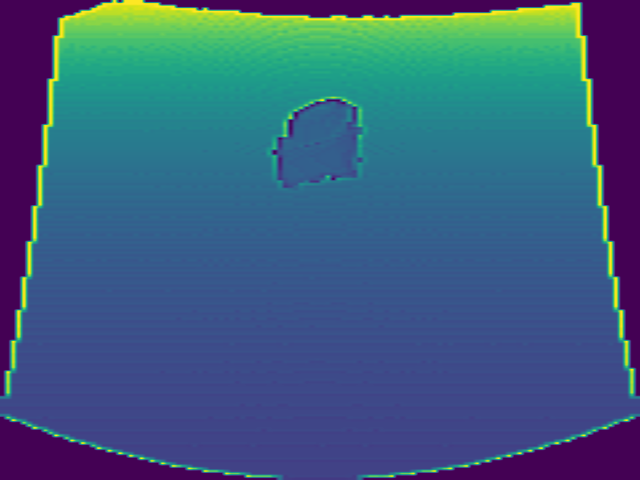car_0027: (270, 97, 365, 189)
